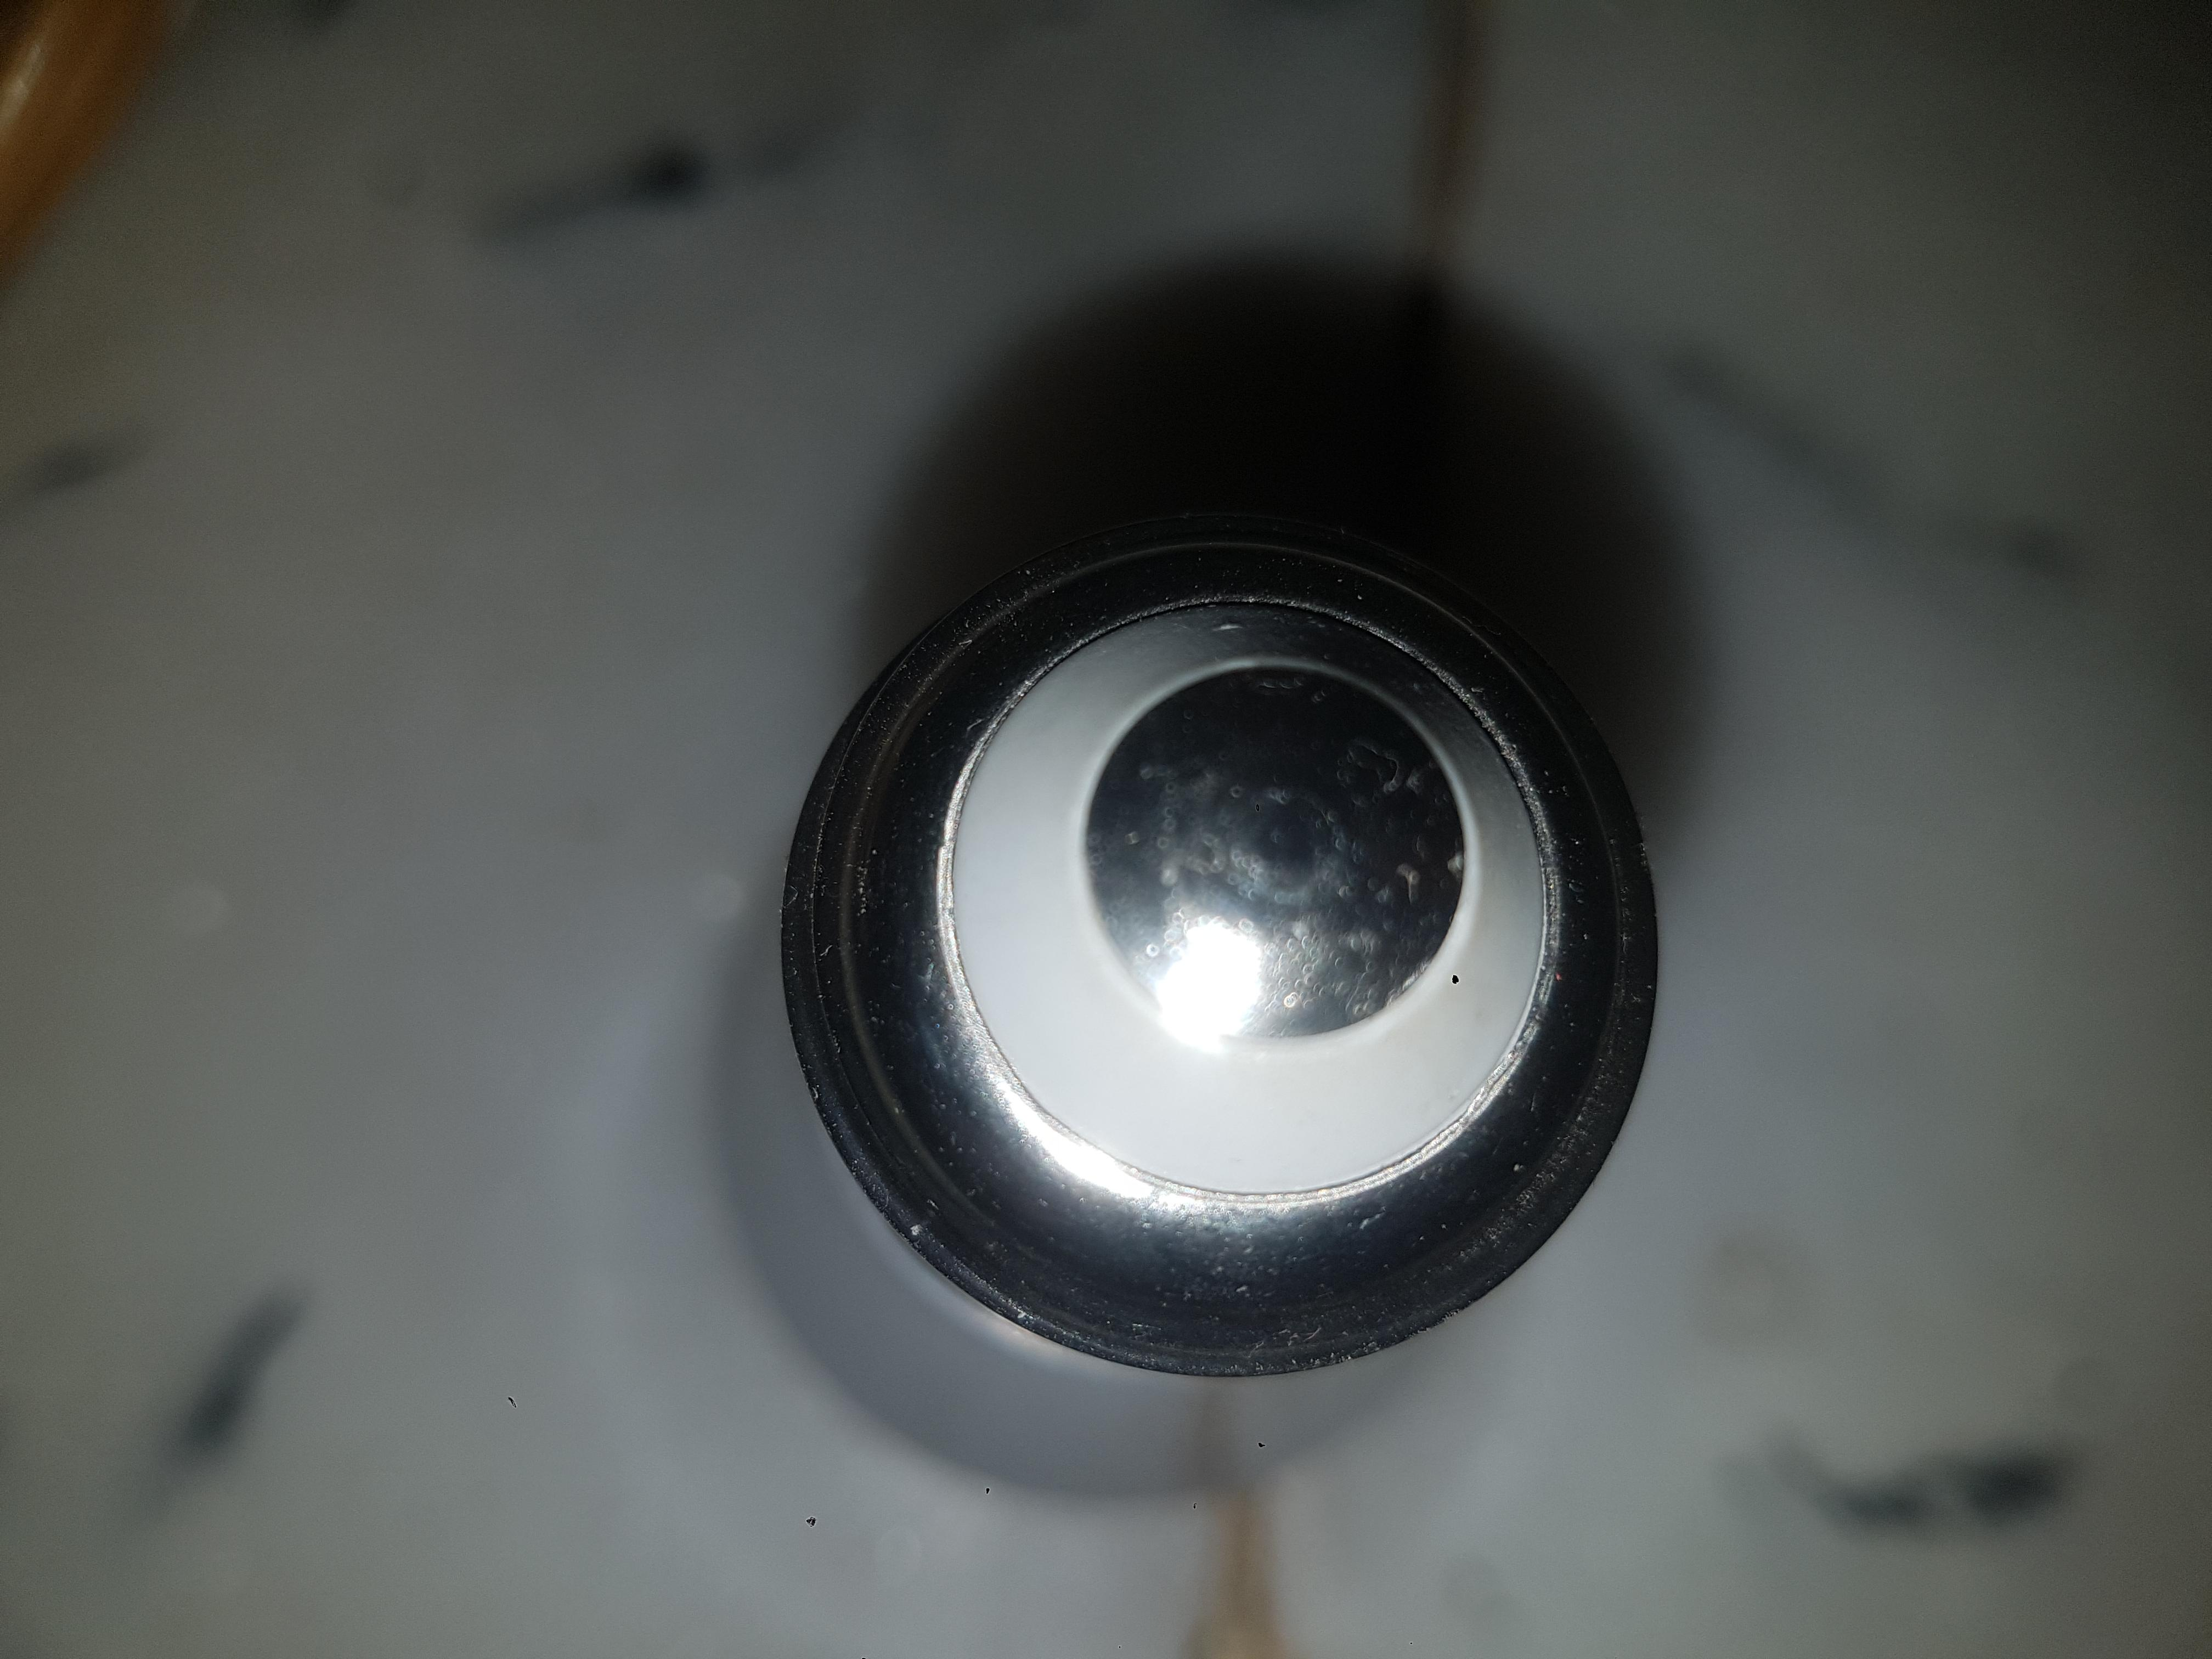light bulb: (725, 549, 1663, 1514)
